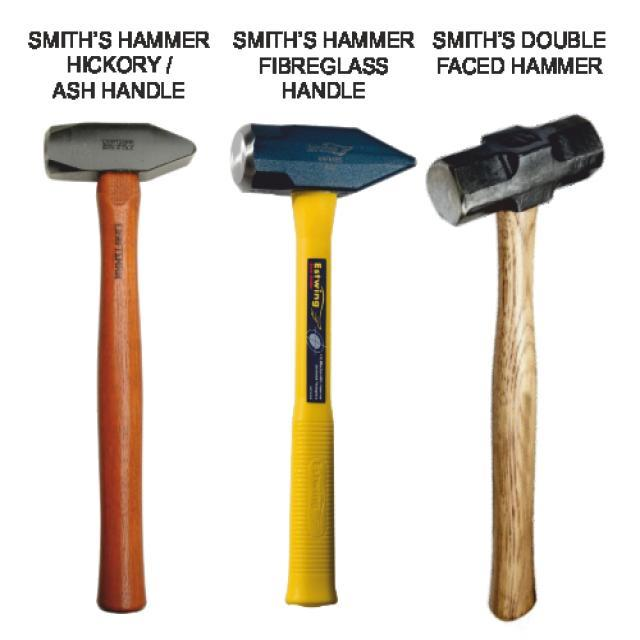hammer: (423, 105, 610, 640), (226, 114, 419, 608), (38, 115, 200, 618)
